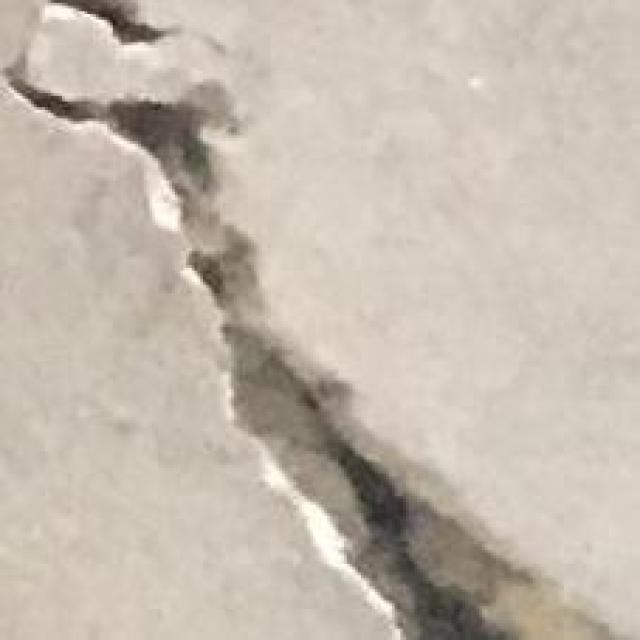Crack: (0, 11, 623, 623)
